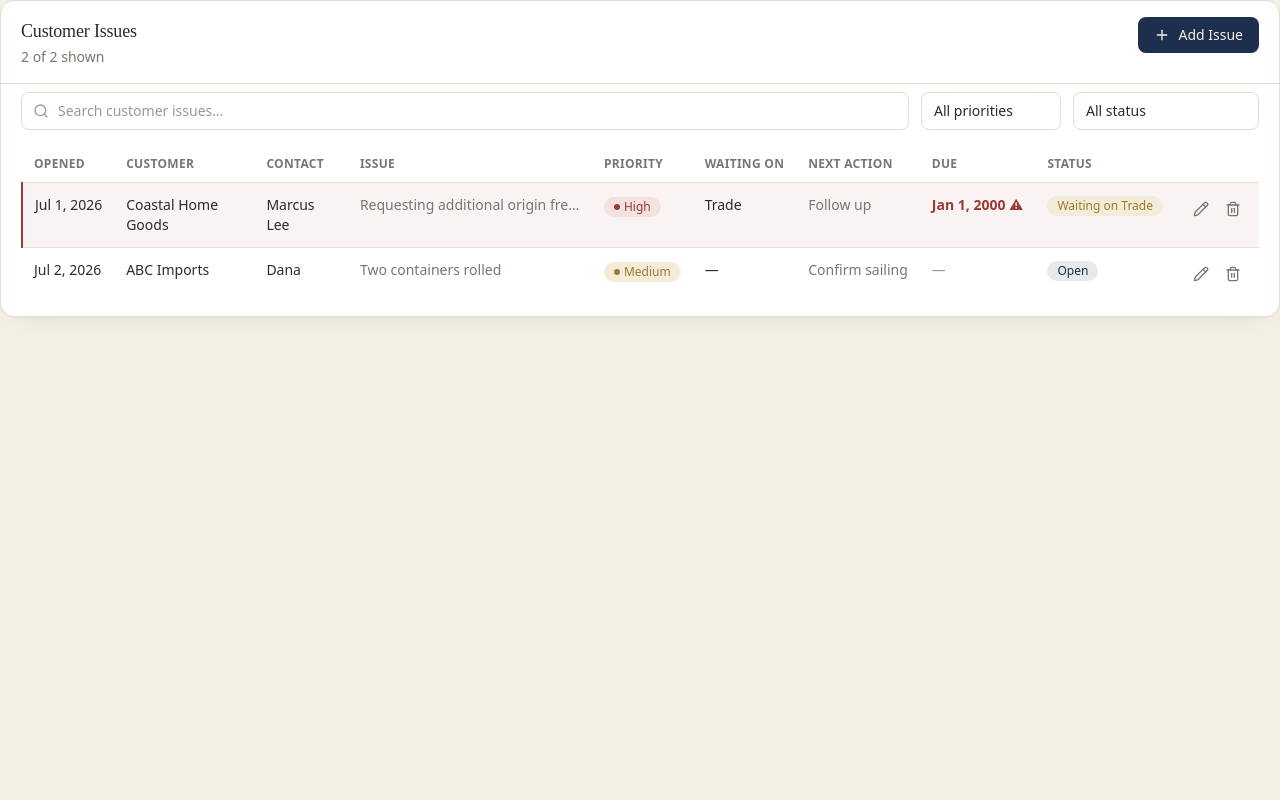
Test: ResourceView › opens the add form when clicking Add
Click the button "Add Issue" at [1199, 35], box [1138,17,1259,53]
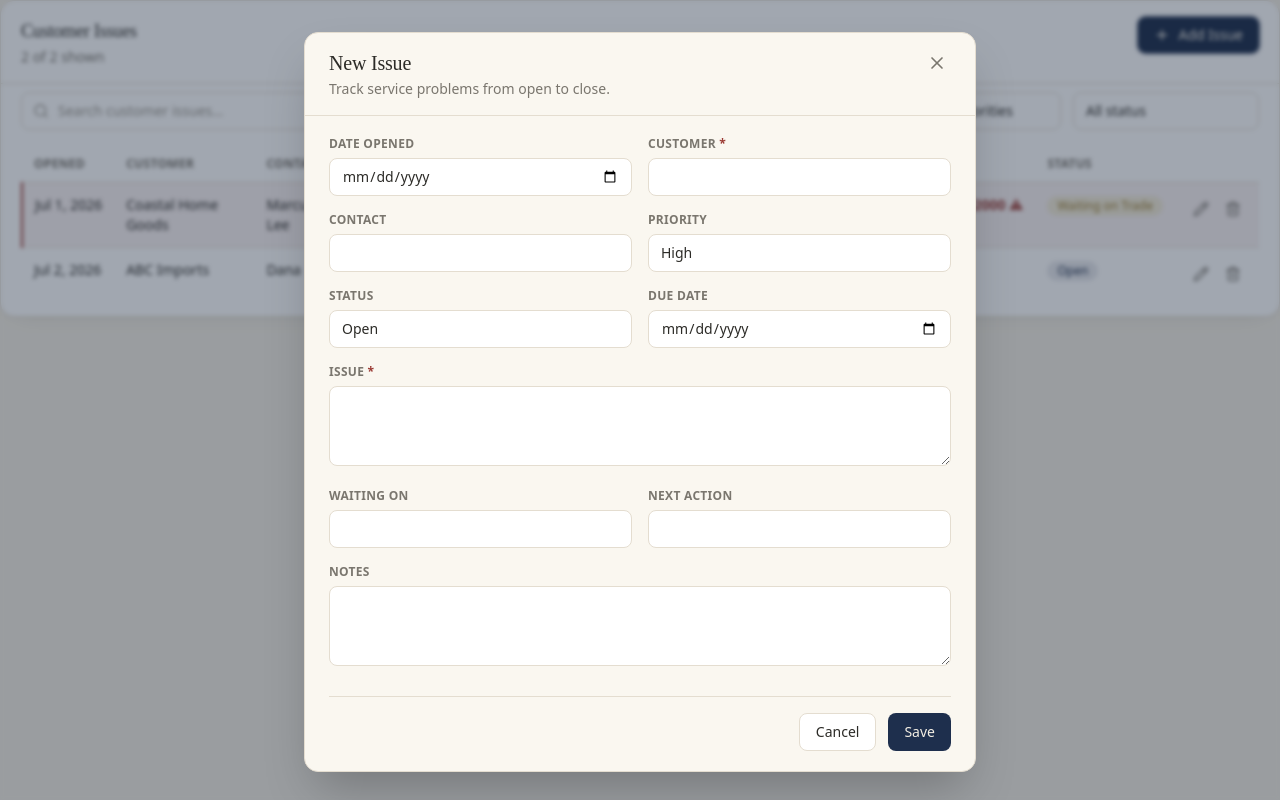
Expected: the dialog is shown, [304,32,976,772]
Expected: the heading "New Issue" is shown, [329,52,411,74]
